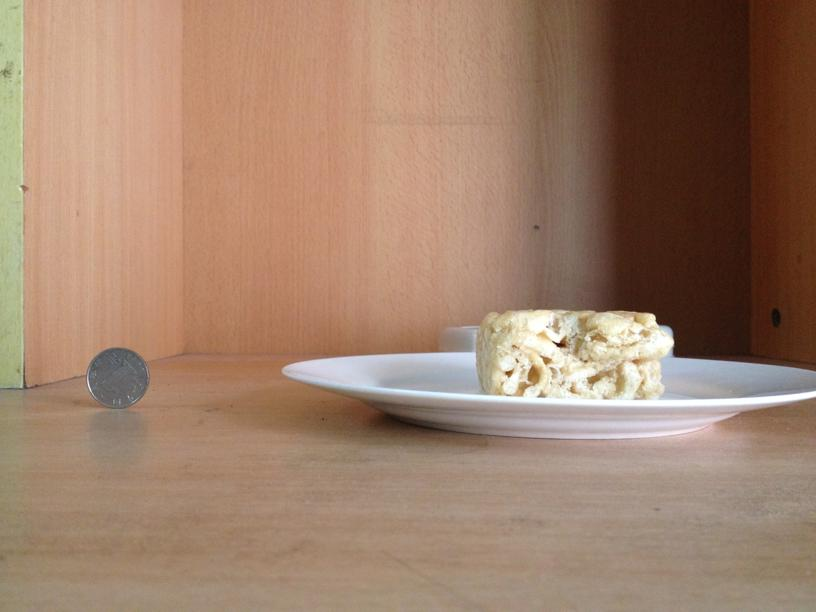coin: (83, 345, 151, 410)
sachima: (475, 309, 669, 399)
